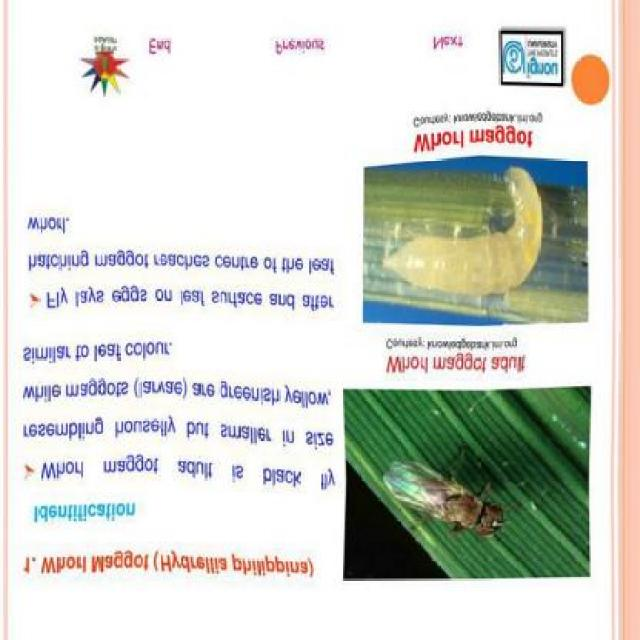whorl-maggot: (378, 166, 552, 309)
